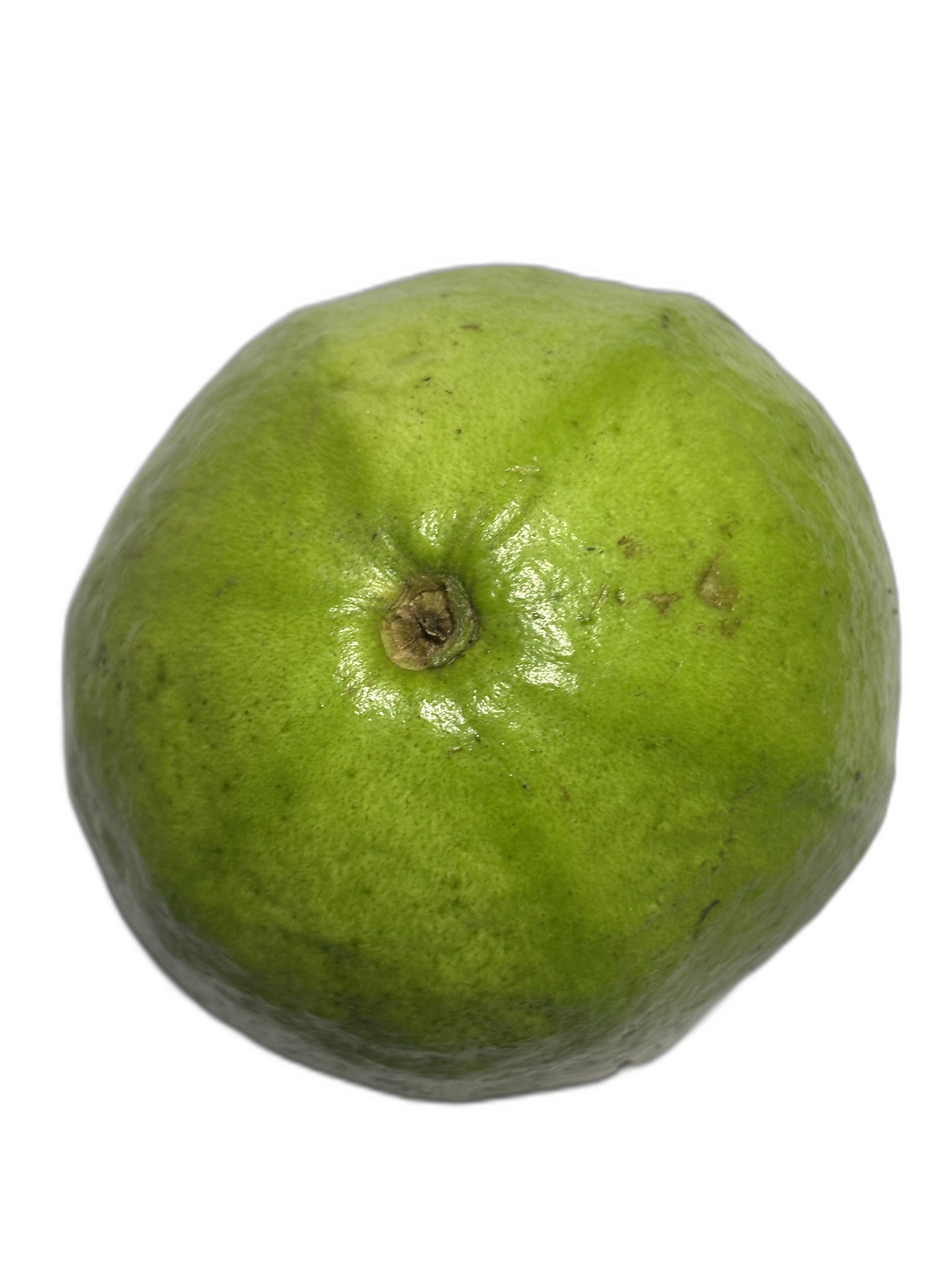guava: (184, 159, 919, 1118)
